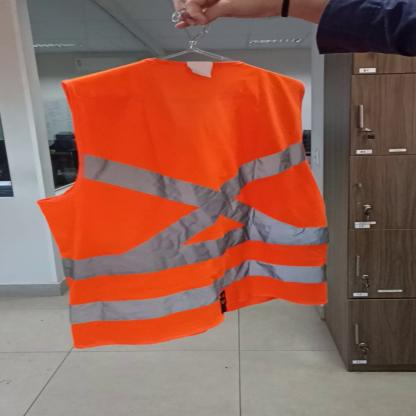colete: (30, 51, 347, 353)
